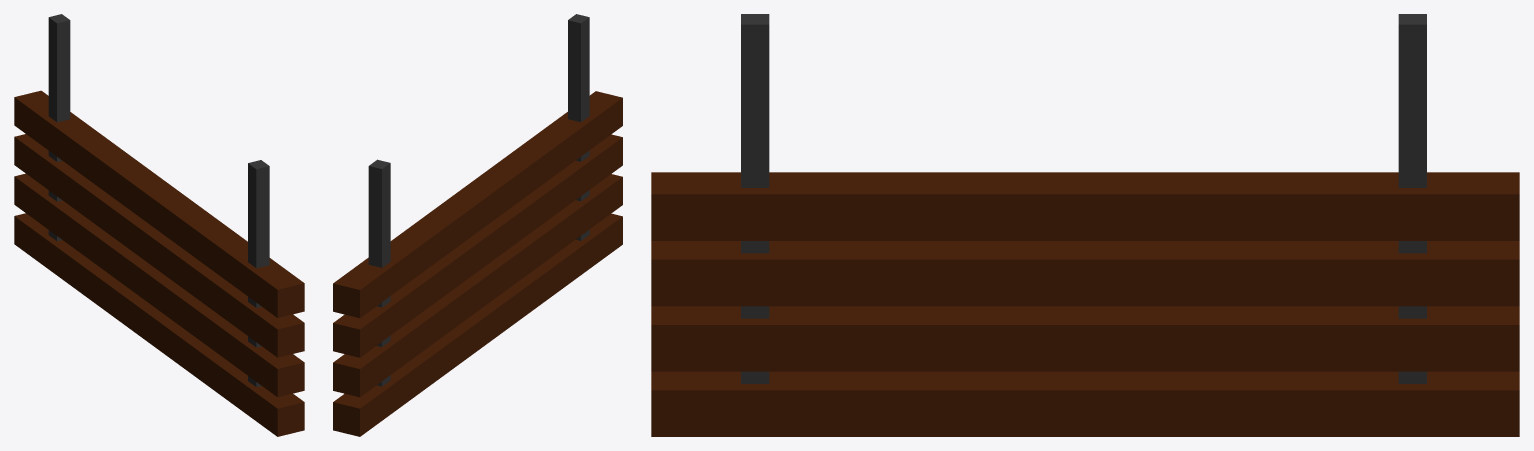
Rendered from placa4.fbx.
3 views of the same model, side by side, from view 1: azimuth 30°, elevation 25°; view 2: azimuth 150°, elevation 25°; view 3: azimuth 270°, elevation 25° (orthographic). The views are drawn at different scales.
Visible parts, largest first — view 1: Cube.005; view 2: Cube.005; view 3: Cube.005.
Boxes of the visible parts, x1=… form: Cube.005: x1=14, y1=14, x2=304, y2=436; Cube.005: x1=333, y1=14, x2=622, y2=436; Cube.005: x1=651, y1=14, x2=1519, y2=436.
Bounding box in the file's own units: 23.93 × 208 × 403.
